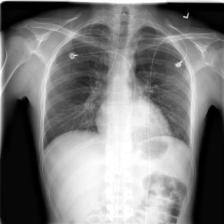normal: (39, 21, 195, 155)
